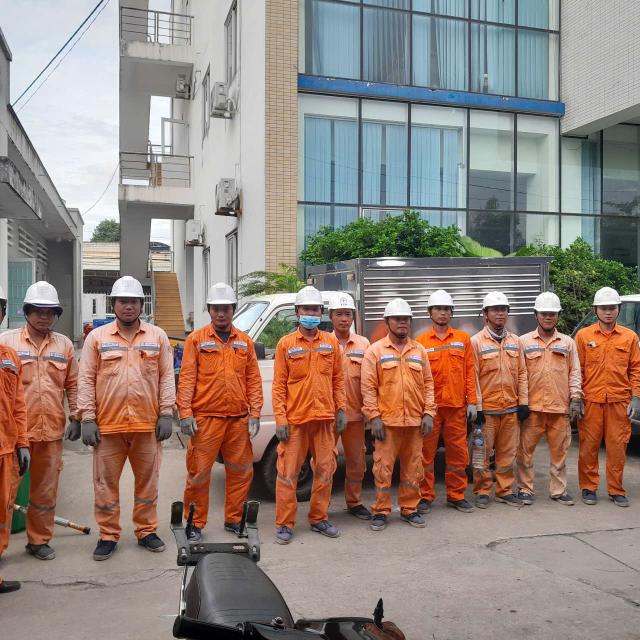gloves: (80, 412, 102, 448), (55, 411, 81, 441), (177, 408, 201, 436), (17, 440, 35, 474), (242, 417, 263, 446), (267, 424, 297, 442), (369, 416, 389, 443), (158, 411, 172, 445), (623, 397, 640, 424), (332, 411, 353, 432), (416, 414, 437, 435), (464, 400, 479, 423), (517, 401, 532, 422), (571, 395, 581, 421), (578, 396, 586, 417)
helmet: (20, 269, 62, 319), (102, 271, 144, 307), (202, 272, 237, 309), (288, 279, 321, 315), (379, 295, 413, 326), (585, 284, 624, 310), (327, 286, 359, 315), (532, 284, 562, 313), (424, 286, 451, 312), (481, 289, 506, 312)
shoes: (130, 522, 173, 559), (80, 529, 115, 565), (23, 534, 62, 566), (462, 477, 491, 517), (389, 503, 431, 529), (488, 477, 522, 507), (435, 493, 474, 519), (223, 510, 252, 541), (570, 482, 598, 511), (550, 487, 581, 513), (309, 517, 338, 543), (0, 566, 26, 594), (183, 516, 205, 549), (349, 495, 371, 526), (612, 487, 636, 515), (364, 505, 385, 535), (280, 517, 298, 549), (510, 485, 533, 509), (411, 491, 436, 512)
